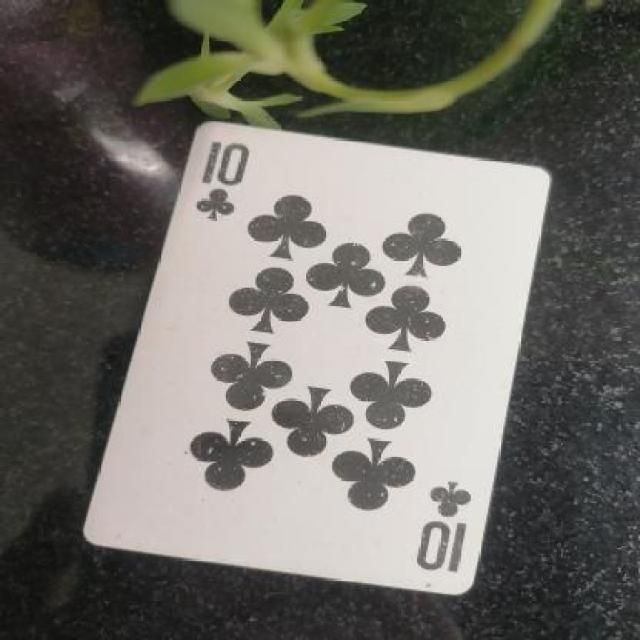10C: (397, 467, 494, 579), (178, 134, 270, 229)
